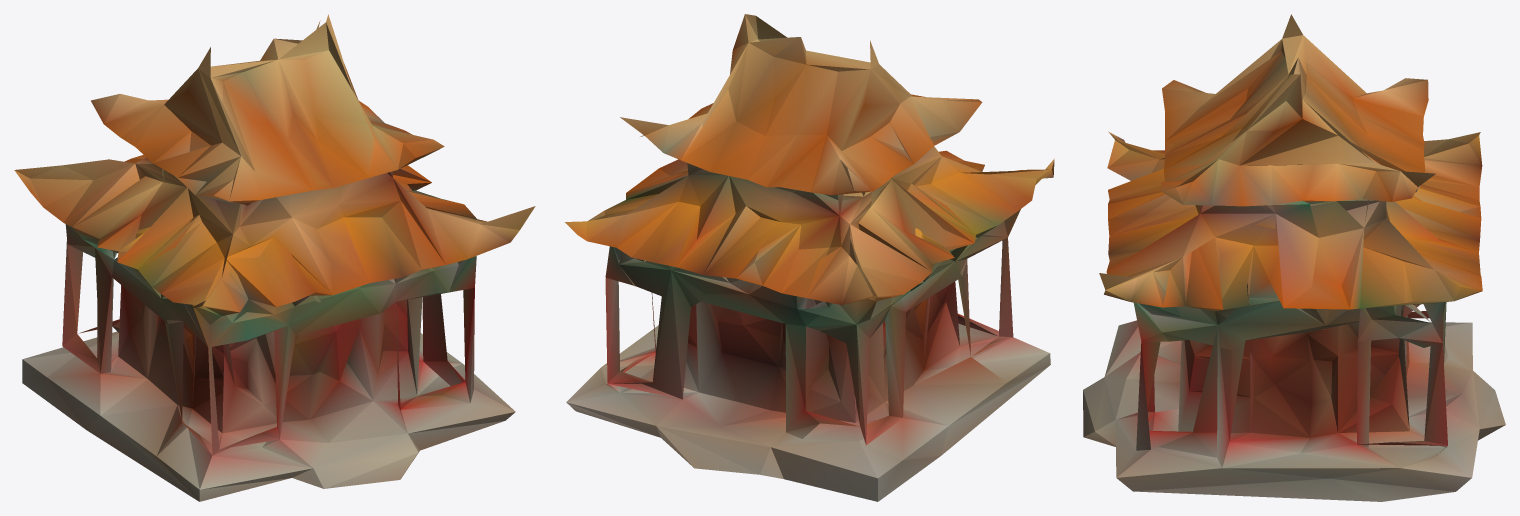
Rendered from lib_pavilion2.vc2.glb.
3 renders of one model, left to right at view 1: azimuth 30°, elevation 25°; view 2: azimuth 150°, elevation 25°; view 3: azimuth 270°, elevation 25°, orthographic.
Visible parts, largest first — view 1: lib_pavilion2; view 2: lib_pavilion2; view 3: lib_pavilion2.
Part boxes in pixels (x1,y1,x2,y2): lib_pavilion2: (14,14,535,501); lib_pavilion2: (565,14,1054,501); lib_pavilion2: (1083,14,1505,501).
Size of the model in its own units: 1.73 by 1.88 by 1.9.
